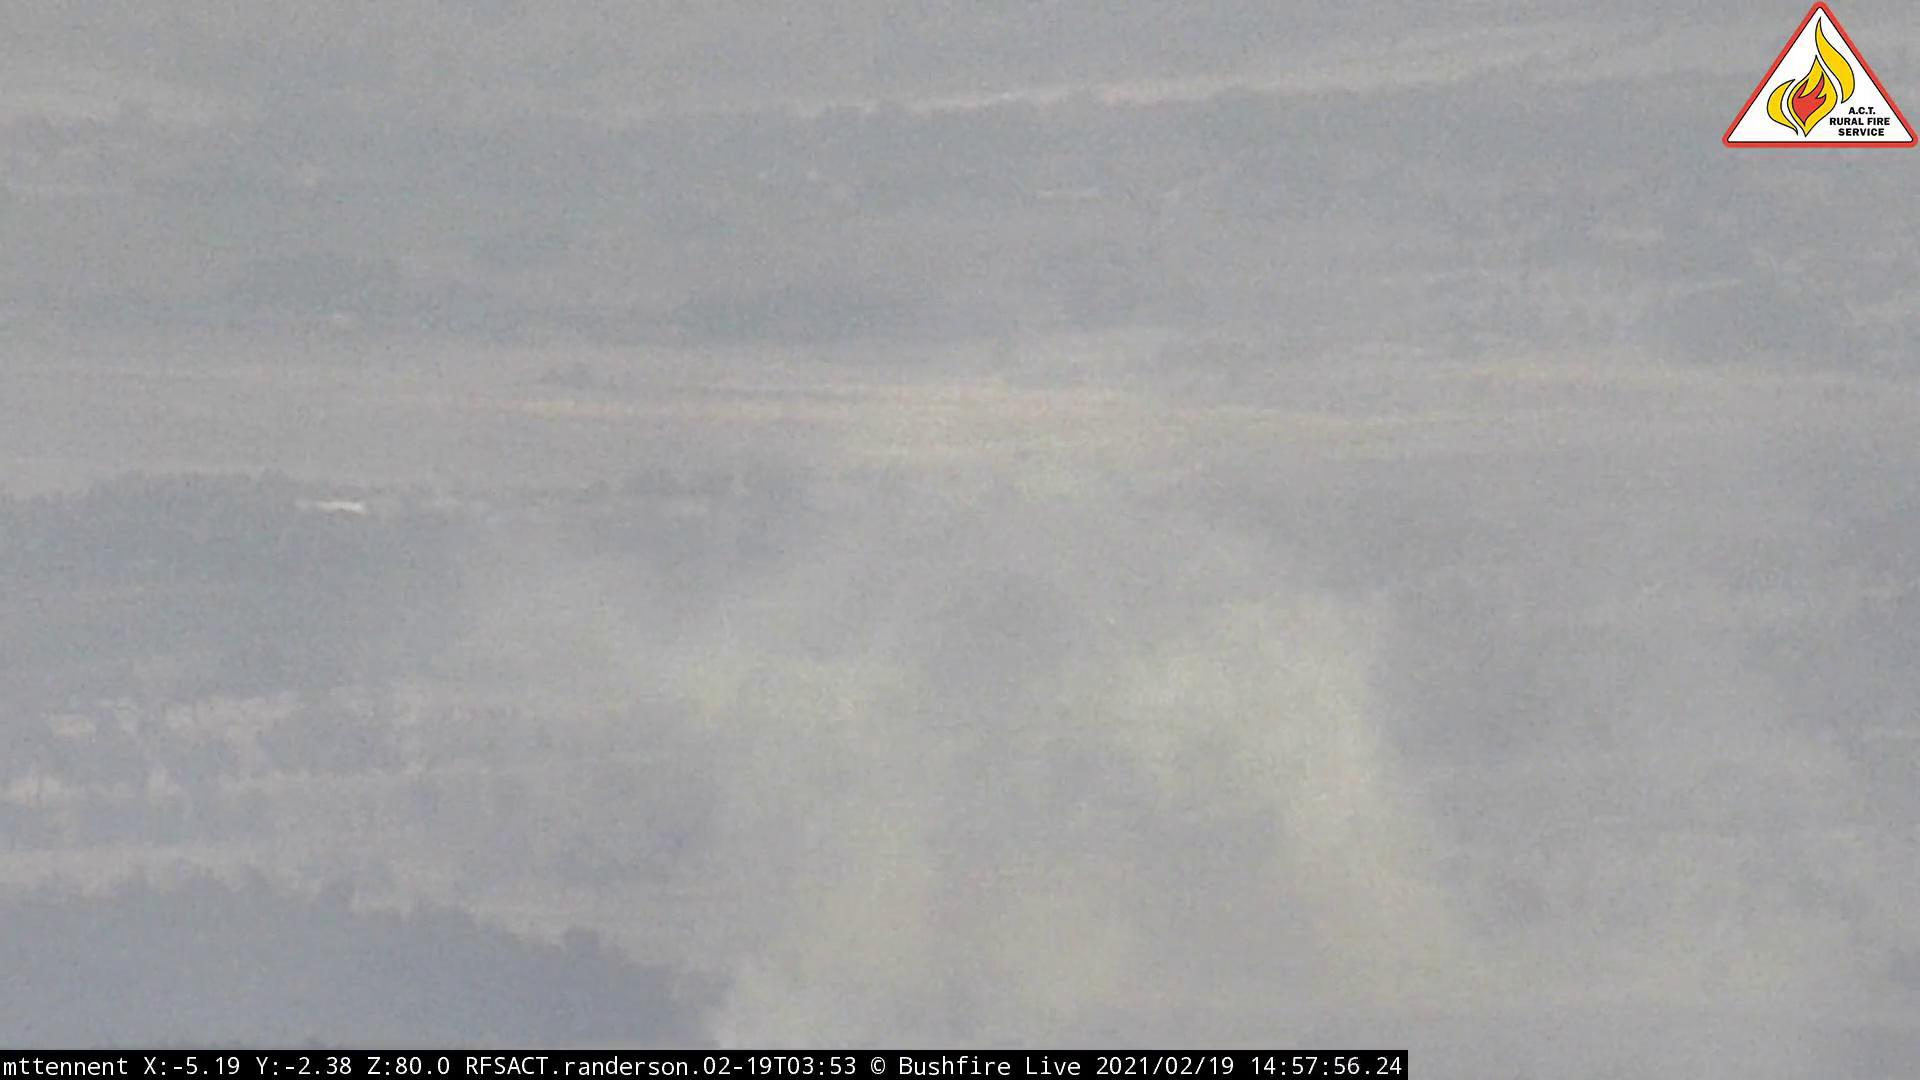Smoke: (616, 496, 1416, 1026)
